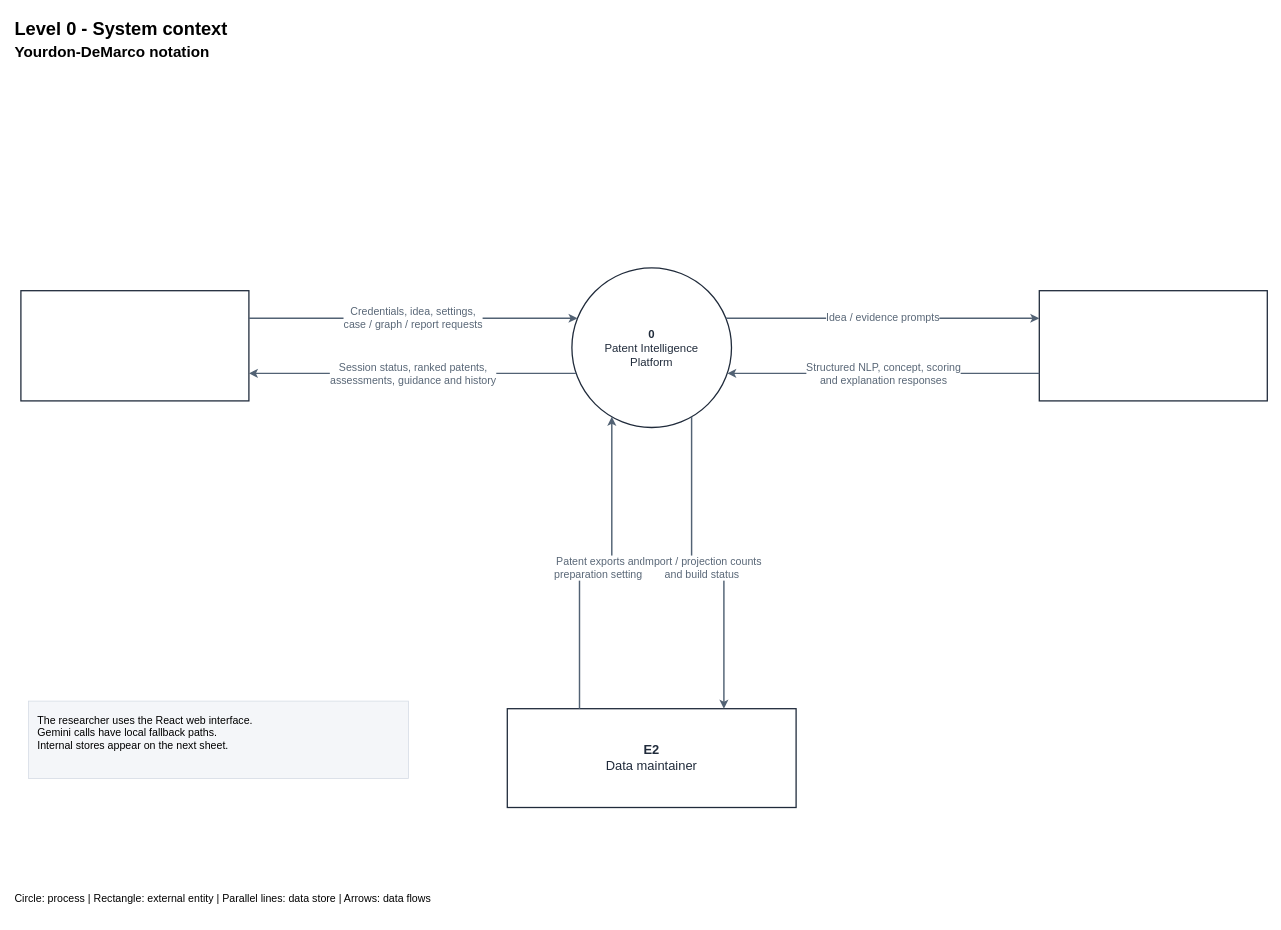
This 1281x930 diagram has some shape labels left out. Here are the shapes that lost their labels. From the top down, the centre of each, then its label:
At (x=134, y=345): "E1 Researcher / analyst".
At (x=1153, y=345): "E3 Gemini AI service".
